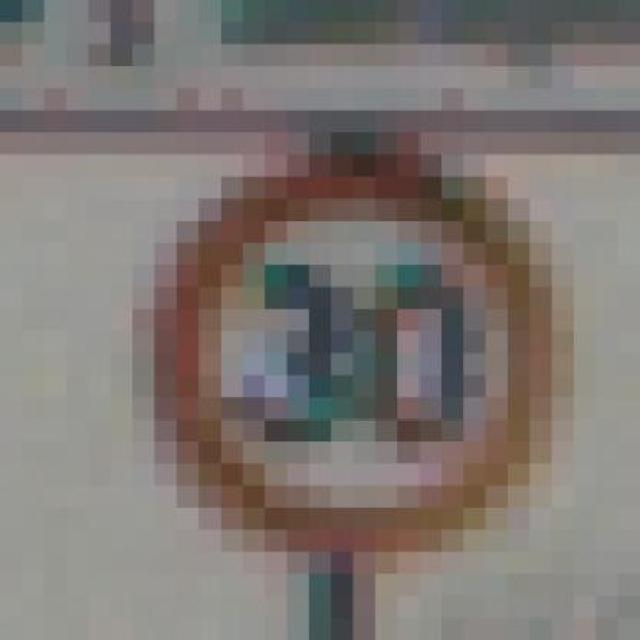forb_speed_over_30: (155, 164, 546, 539)
